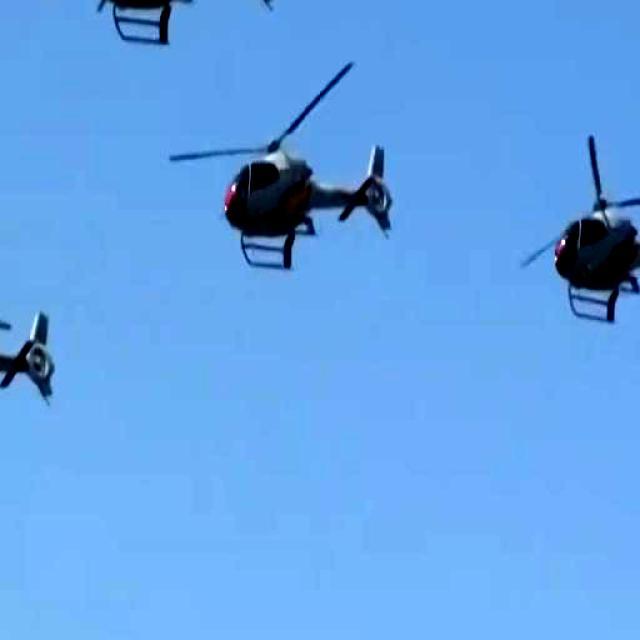drone: (178, 81, 414, 280), (531, 120, 640, 394), (0, 259, 79, 471), (58, 0, 292, 45)
